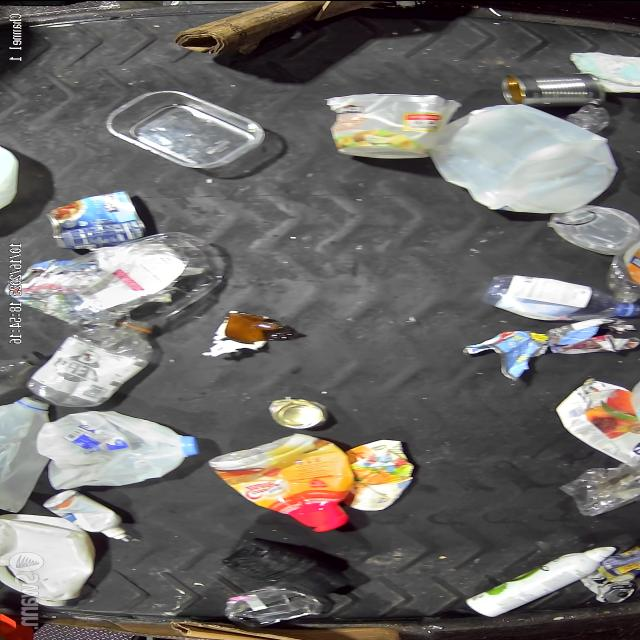can: (46, 190, 146, 249), (498, 72, 605, 106), (267, 396, 330, 428), (582, 570, 638, 604), (600, 545, 640, 583)
milk_jug: (432, 104, 618, 214), (36, 410, 200, 490), (0, 512, 98, 605), (0, 395, 51, 511)
non_white_jug: (208, 432, 356, 532)
plastic_bottle: (27, 318, 154, 407), (479, 272, 640, 323)
